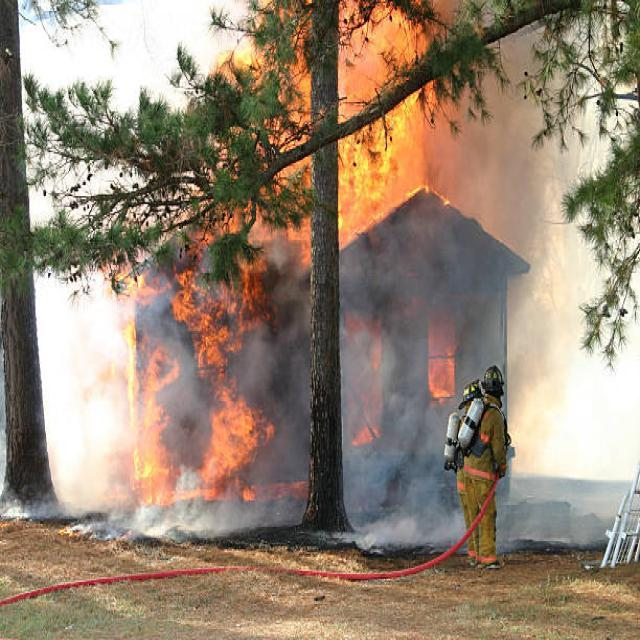Fire: (231, 6, 492, 250), (122, 241, 286, 492)
Smoke: (130, 194, 446, 530), (454, 57, 568, 294)
